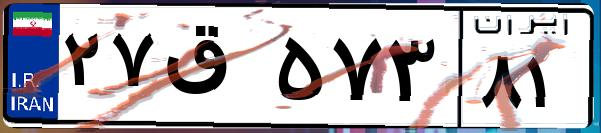1: (525, 38, 570, 115)
2: (57, 26, 110, 100)
3: (385, 28, 445, 110)
5: (270, 28, 330, 110)
7: (330, 28, 385, 110), (110, 28, 158, 98)
8: (475, 38, 525, 113)
ق: (158, 20, 270, 120)
